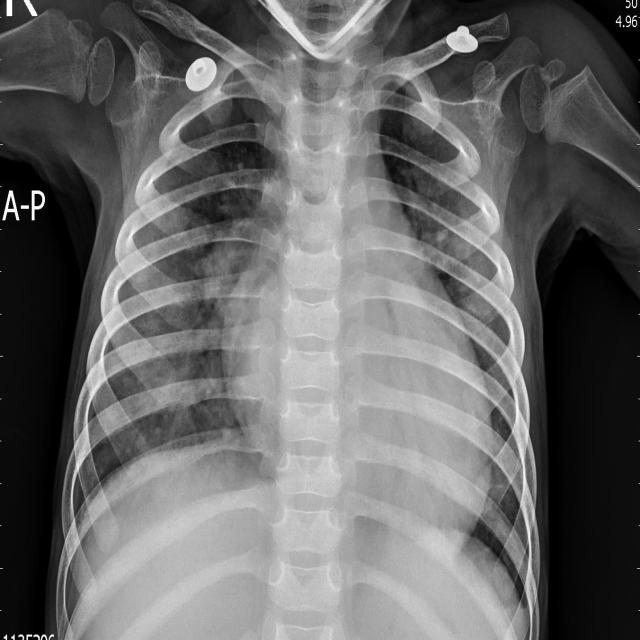low-pneumonia: (199, 184, 281, 313), (440, 218, 506, 331)
